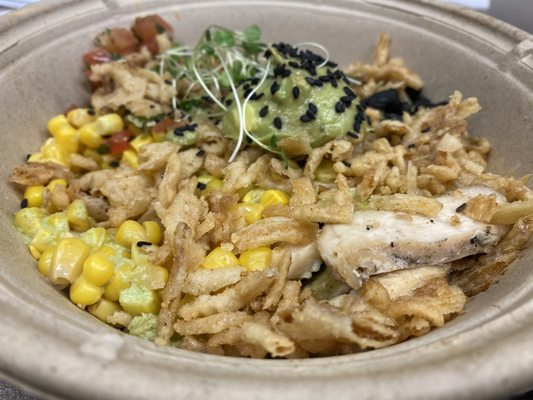sushi: (2, 0, 532, 398)
